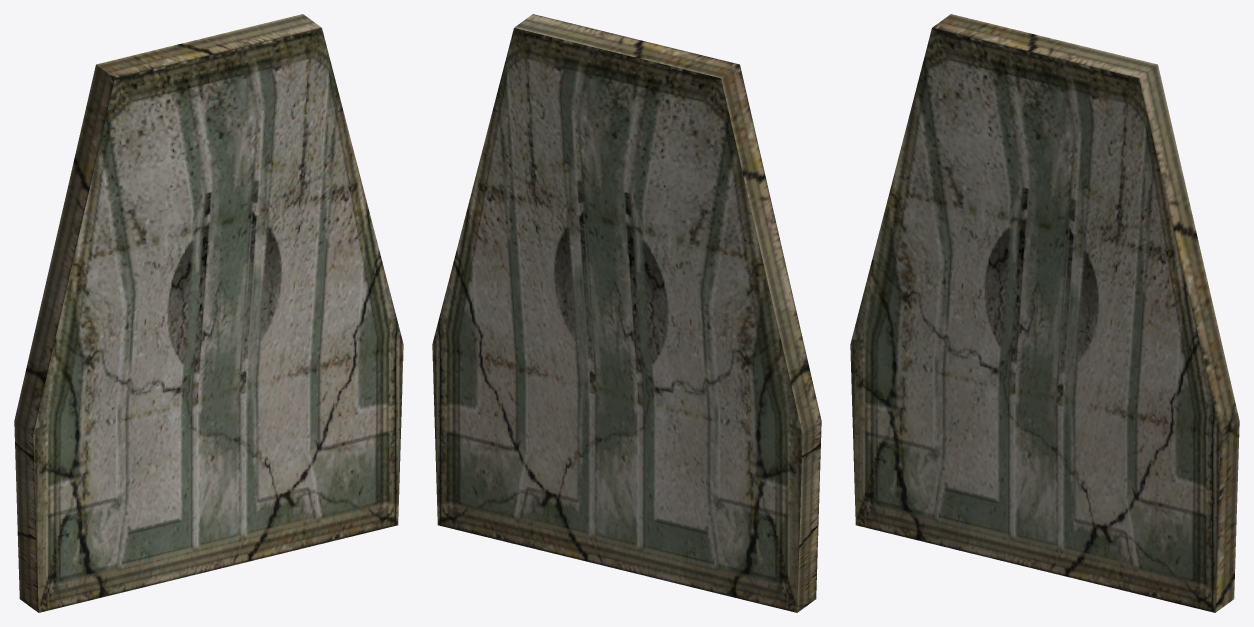
File: thm_yavn_ljt_extdoor_l1.fbx
The picture shows the model from 3 angles, left to right: view 1: azimuth 30°, elevation 25°; view 2: azimuth 150°, elevation 25°; view 3: azimuth 330°, elevation 25°; orthographic projection.
Visible parts, largest first — view 1: mesh_node; view 2: mesh_node; view 3: mesh_node.
Boxes of the visible parts, x1,y1,x2,y2 form: mesh_node: [14, 14, 403, 612]; mesh_node: [432, 14, 821, 612]; mesh_node: [850, 14, 1239, 612].
Bounding box in the file's own units: 2.31 × 3.08 × 0.2048.
